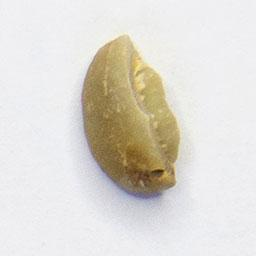defect: (78, 31, 184, 199)
